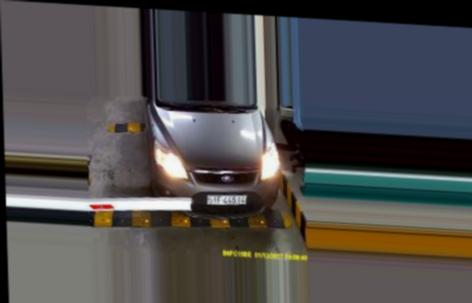License_Plate: (205, 191, 249, 207)
